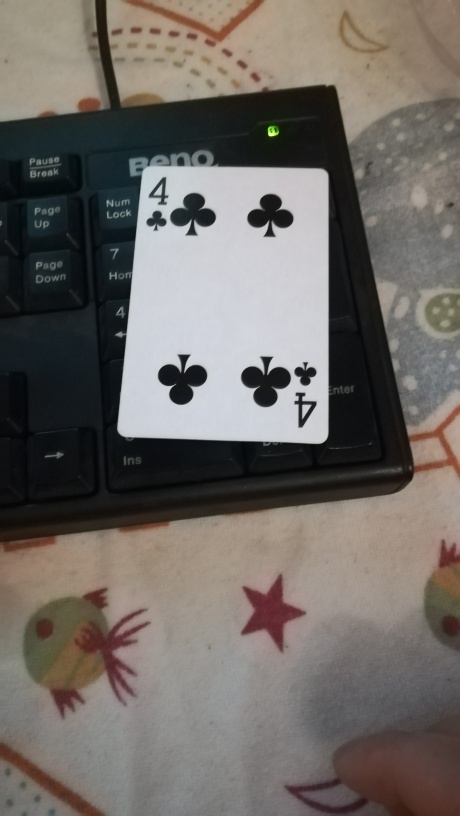mh 4: (112, 163, 331, 444)
